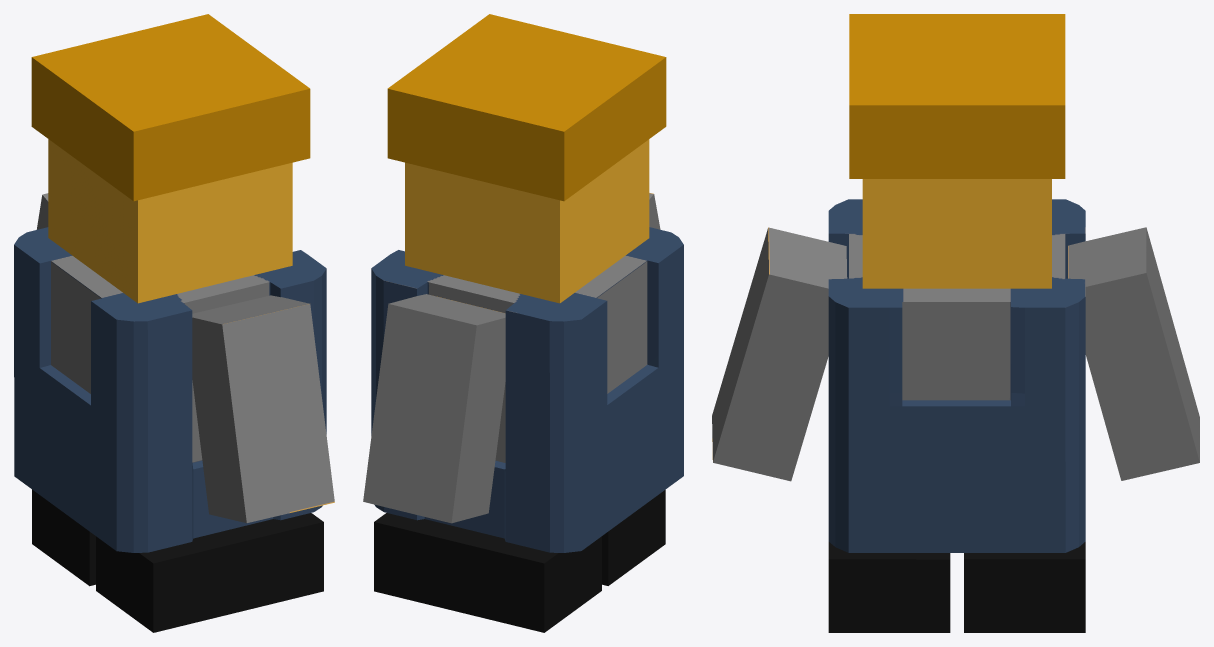
File: player.fbx
3 views of the same model, side by side, from view 1: azimuth 30°, elevation 25°; view 2: azimuth 150°, elevation 25°; view 3: azimuth 270°, elevation 25° (orthographic). The views are drawn at different scales.
Visible parts, largest first — view 1: 立方体; view 2: 立方体; view 3: 立方体.
Part boxes in pixels (x1,y1,x2,y2): 立方体: (14,14,334,632); 立方体: (363,14,683,632); 立方体: (712,14,1199,632).
Bounding box in the file's own units: 190 × 429 × 361.
Materials: 1 (1 with a texture image).
